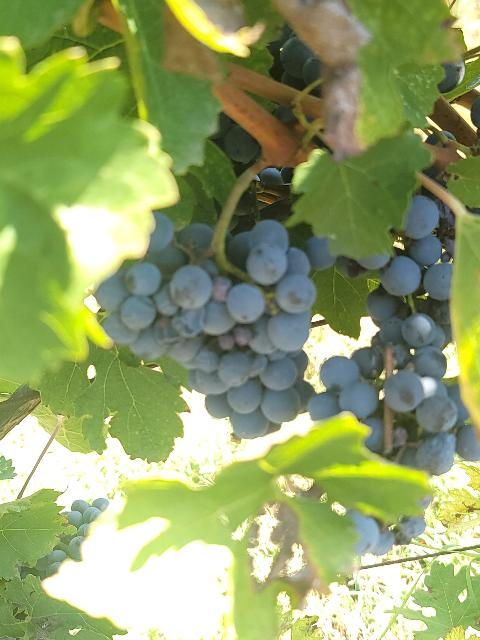grapes: (95, 211, 316, 436), (308, 288, 476, 474)
